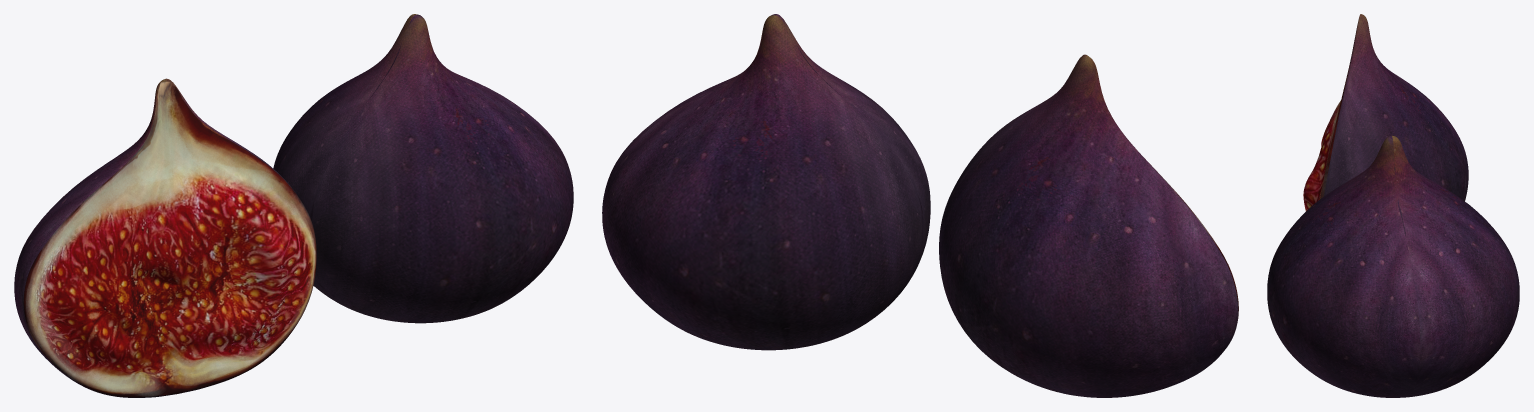
The model's file is figs.glb.
The picture shows the model from 3 angles, left to right: view 1: azimuth 30°, elevation 25°; view 2: azimuth 150°, elevation 25°; view 3: azimuth 270°, elevation 25°; orthographic projection. The views are drawn at different scales.
Parts seen in each view (by area): view 1: fig half 1, fig whole 1; view 2: fig whole 1, fig half 1; view 3: fig whole 1, fig half 1.
Boxes of the visible parts, x1,y1,x2,y2 form: fig half 1: [14, 78, 316, 397]; fig whole 1: [273, 14, 573, 323]; fig whole 1: [602, 14, 930, 350]; fig half 1: [939, 54, 1238, 397]; fig whole 1: [1267, 135, 1519, 397]; fig half 1: [1303, 14, 1468, 210].
Size of the model in its own units: 159 by 84.17 by 76.12.
Materials: 3 (3 with a texture image).
